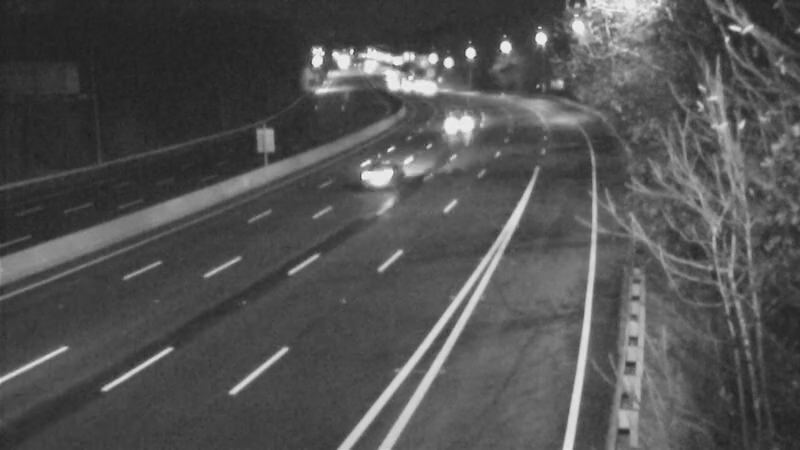vehicle: (343, 140, 423, 220), (439, 97, 489, 147)
